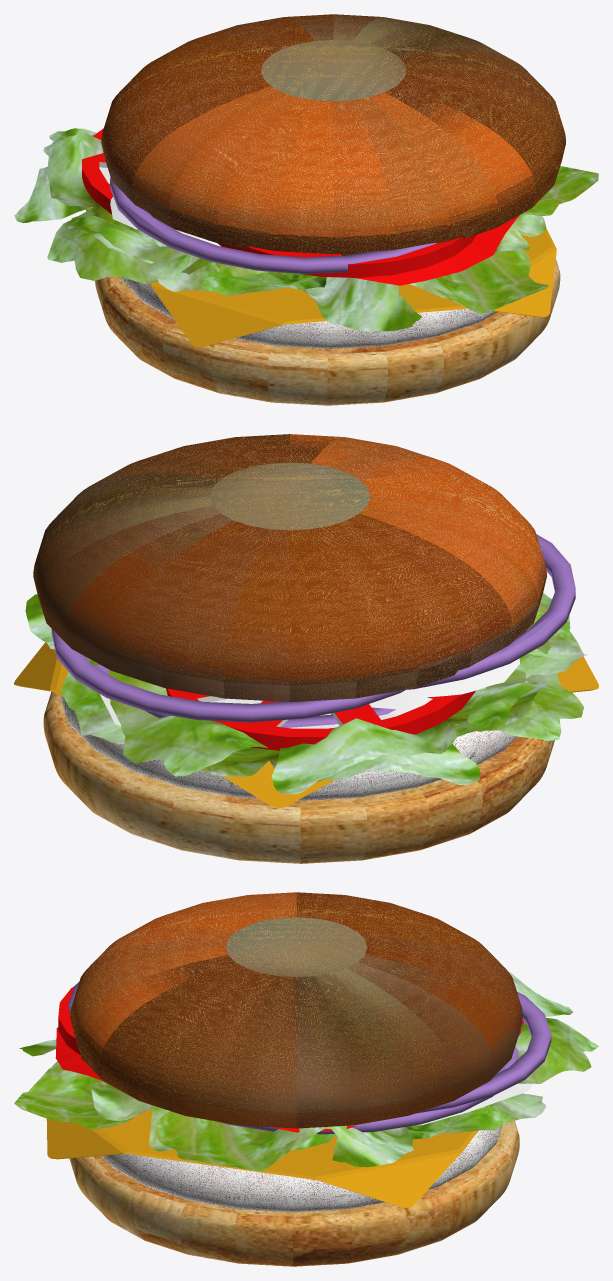
File: Burger.dae
3 views of the same model, one above another, from view 1: azimuth 30°, elevation 25°; view 2: azimuth 150°, elevation 25°; view 3: azimuth 270°, elevation 25° (orthographic). The views are drawn at different scales.
Visible parts, largest first — view 1: group_13, group_1 (×3), group_5, group_2 (×4), group_12, group_0 (×2), group_7 (×2), group_4, group_10, group_11; view 2: group_13, group_1 (×4), group_12, group_5, group_0 (×2), group_8 (×2), group_11, group_7 (×2), group_2 (×3), group_9; view 3: group_13, group_1 (×4), group_12, group_2 (×4), group_0 (×2), group_5, group_8 (×2), group_6, group_10, group_4, group_9.
Part boxes in pixels (box(x1,y1,x2,y2)): group_13: box(101, 14, 565, 255); group_1 (×3): box(95, 276, 552, 405); group_5: box(14, 166, 549, 331); group_2 (×4): box(150, 228, 556, 347); group_12: box(43, 128, 598, 295); group_0 (×2): box(119, 277, 483, 349); group_7 (×2): box(110, 177, 436, 273); group_4: box(218, 234, 476, 277); group_10: box(208, 215, 519, 285); group_11: box(82, 128, 112, 213); group_13: box(33, 434, 546, 702); group_1 (×4): box(43, 691, 554, 863); group_12: box(25, 593, 587, 794); group_5: box(60, 602, 583, 785); group_0 (×2): box(59, 695, 517, 800); group_8 (×2): box(51, 629, 405, 722); group_11: box(166, 688, 475, 750); group_7 (×2): box(405, 534, 575, 689); group_2 (×3): box(14, 642, 598, 808); group_9: box(100, 658, 519, 726); group_13: box(70, 892, 522, 1128); group_1 (×4): box(69, 1121, 519, 1266); group_12: box(91, 972, 598, 1171); group_2 (×4): box(46, 1108, 478, 1207); group_0 (×2): box(101, 1125, 502, 1212); group_5: box(14, 1039, 546, 1151); group_8 (×2): box(415, 991, 551, 1113); group_6: box(218, 1047, 518, 1134); group_10: box(55, 1027, 356, 1132); group_4: box(58, 986, 80, 1054); group_9: box(416, 1083, 532, 1125).
Bounding box in the file's own units: 4.73 × 5.16 × 2.28.
Materials: 19 (15 with a texture image).
